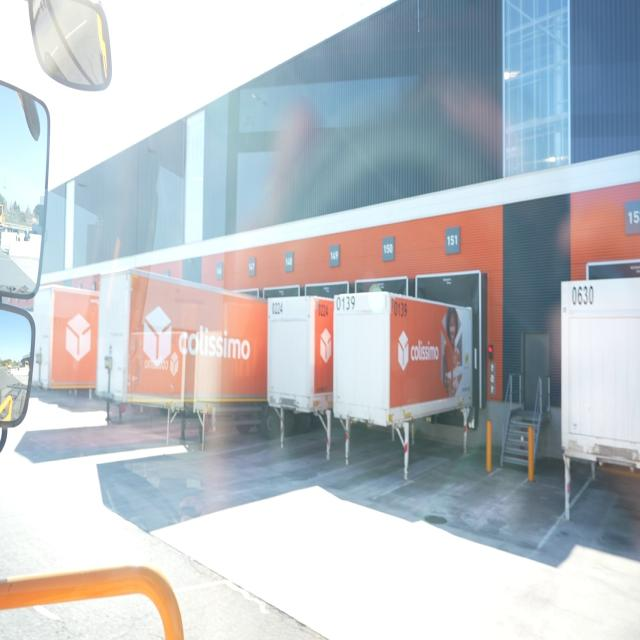Code: (568, 282, 595, 309), (334, 291, 358, 317), (390, 294, 412, 318), (268, 298, 287, 319)
